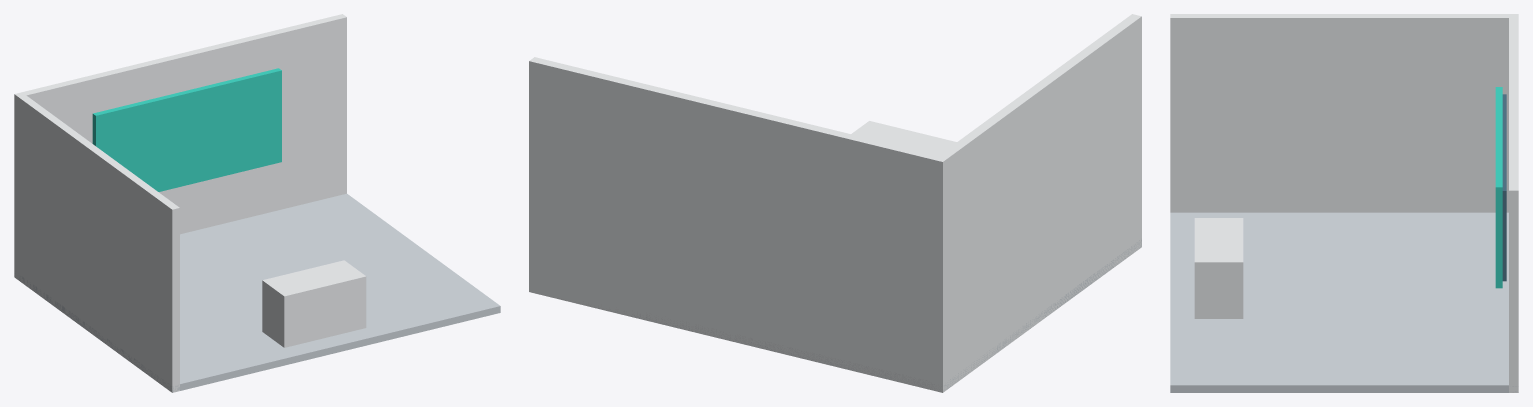
3 views of the same model, side by side, from view 1: azimuth 30°, elevation 25°; view 2: azimuth 150°, elevation 25°; view 3: azimuth 270°, elevation 25° (orthographic). The views are drawn at different scales.
Parts seen in each view (by area): view 1: Exhibition Booth Concept; view 2: Exhibition Booth Concept; view 3: Exhibition Booth Concept.
Boxes of the visible parts, <box> form: Exhibition Booth Concept: <box>14,14,500,392</box>; Exhibition Booth Concept: <box>529,14,1141,392</box>; Exhibition Booth Concept: <box>1170,14,1518,392</box>.
Size of the model in its own units: 6 by 3.2 by 5.
